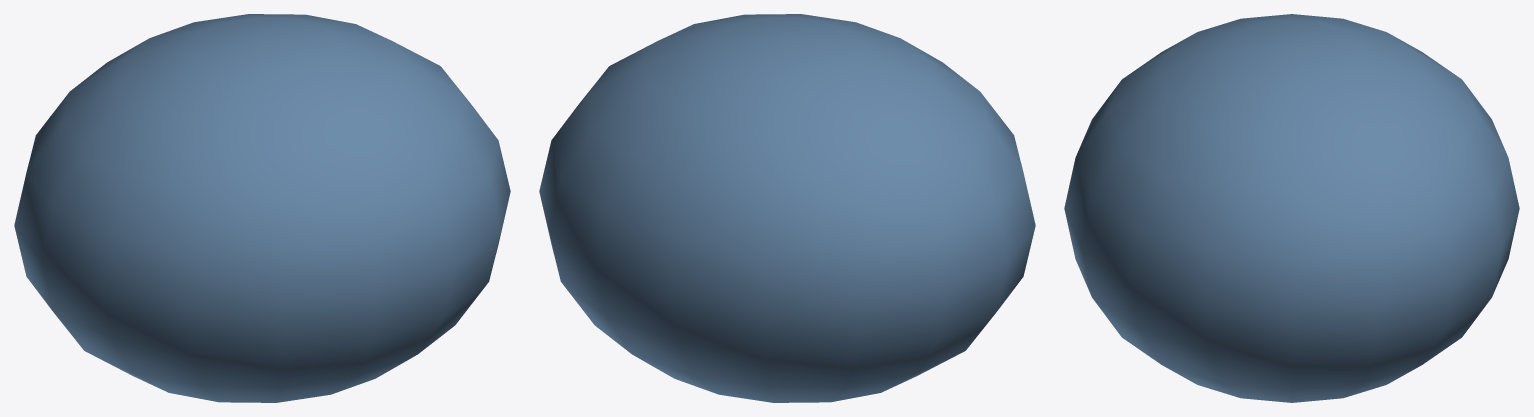
The model's file is living_03.glb.
3 views of the same model, side by side, from view 1: azimuth 30°, elevation 25°; view 2: azimuth 150°, elevation 25°; view 3: azimuth 270°, elevation 25° (orthographic). The views are drawn at different scales.
Parts seen in each view (by area): view 1: BeanBag; view 2: BeanBag; view 3: BeanBag.
Boxes of the visible parts, x1,y1,x2,y2 form: BeanBag: [14, 14, 510, 402]; BeanBag: [539, 14, 1035, 402]; BeanBag: [1064, 14, 1519, 402].
Size of the model in its own units: 0.96 by 0.7 by 0.88.
